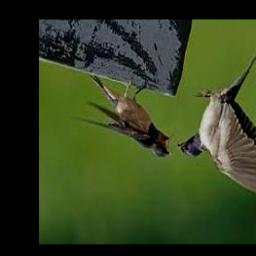Swallow: (177, 31, 256, 199), (74, 75, 173, 158)
